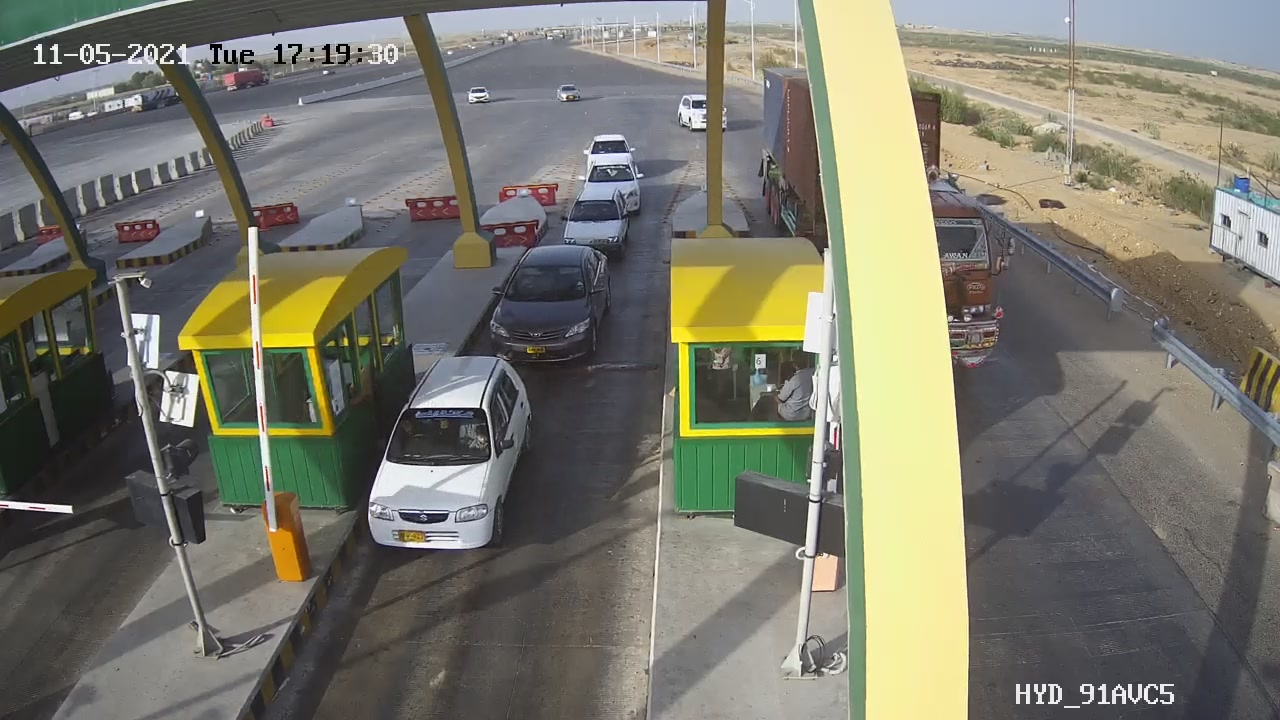F1: (352, 346, 546, 566), (477, 229, 630, 383)
